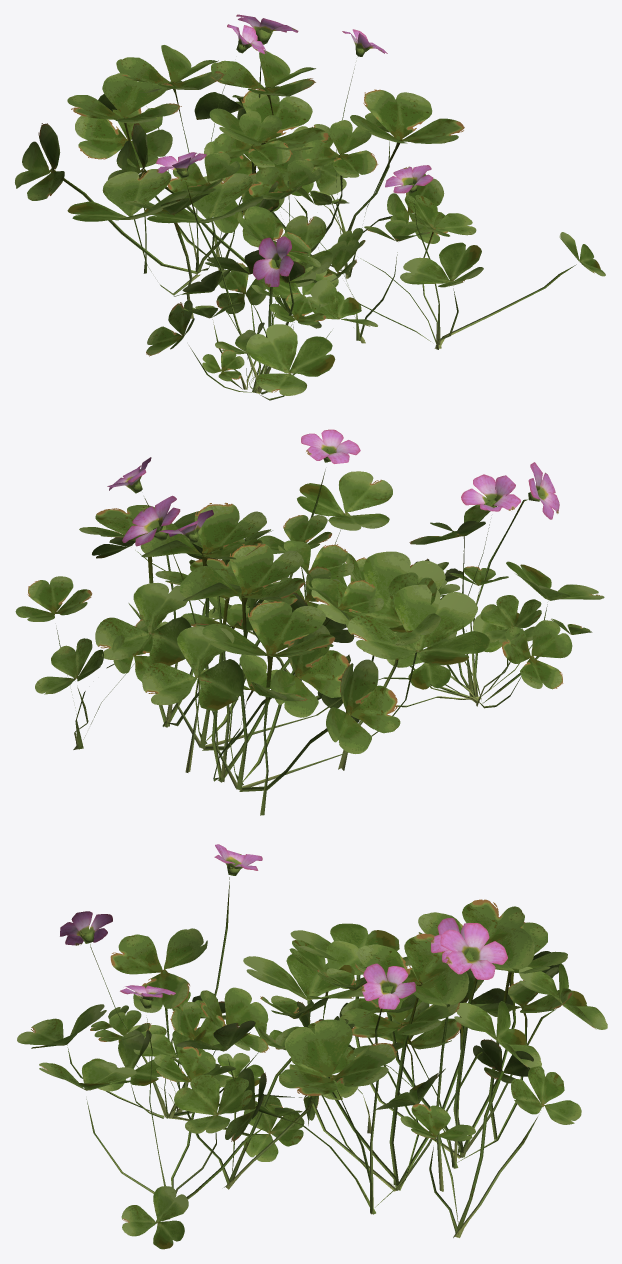
Rendered from sorrel-low-packed.glb.
3 views of the same model, one above another, from view 1: azimuth 30°, elevation 25°; view 2: azimuth 150°, elevation 25°; view 3: azimuth 270°, elevation 25° (orthographic). The views are drawn at different scales.
Parts seen in each view (by area): view 1: sorrel-groundcover-low; view 2: sorrel-groundcover-low; view 3: sorrel-groundcover-low.
Boxes of the visible parts, bbox=[...] form: sorrel-groundcover-low: bbox=[15, 14, 605, 400]; sorrel-groundcover-low: bbox=[15, 429, 604, 815]; sorrel-groundcover-low: bbox=[17, 844, 607, 1249].
Bounding box in the file's own units: 0.1622 × 0.087 × 0.1766.
Materials: 1 (1 with a texture image).
